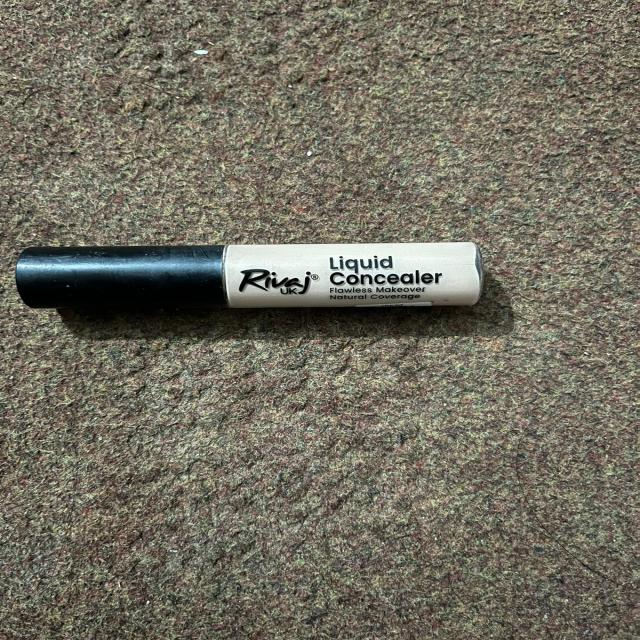concealer: (7, 219, 492, 324)
